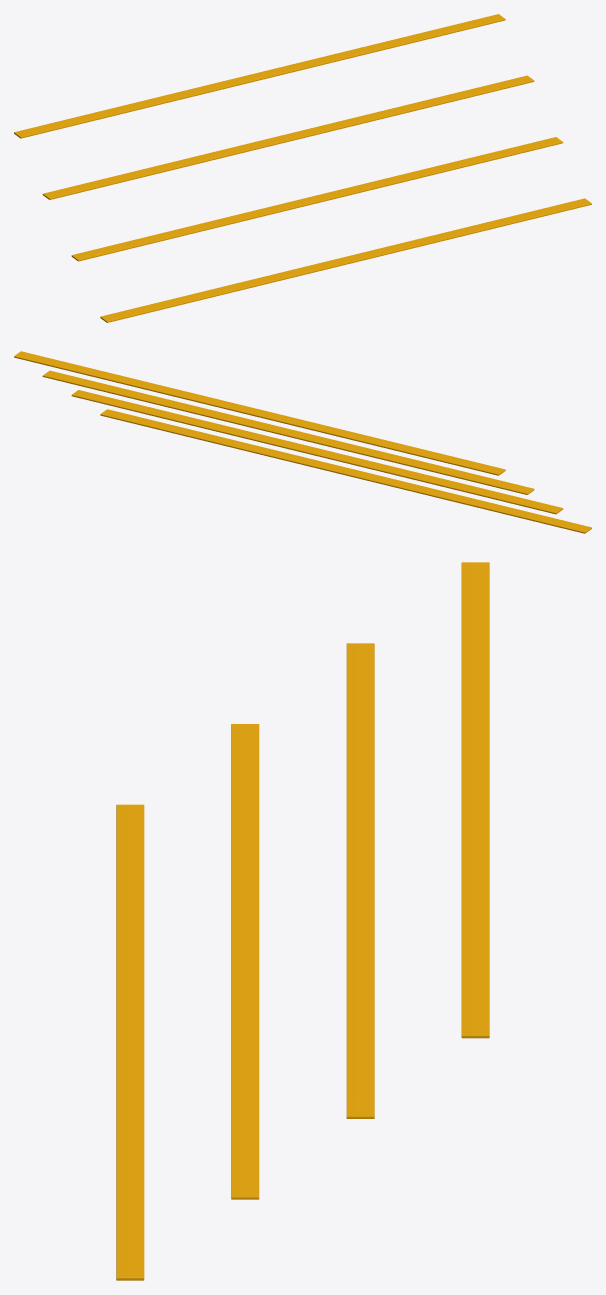
File: gteki_ik_stair_n4_r175_t226_w2215_nosing.glb
3 views of the same model, one above another, from view 1: azimuth 30°, elevation 25°; view 2: azimuth 150°, elevation 25°; view 3: azimuth 270°, elevation 25° (orthographic). The views are drawn at different scales.
Parts seen in each view (by area): view 1: VIS_nosings; view 2: VIS_nosings; view 3: VIS_nosings.
Boxes of the visible parts, x1=… form: VIS_nosings: x1=14, y1=14, x2=591, y2=322; VIS_nosings: x1=14, y1=351, x2=591, y2=533; VIS_nosings: x1=116, y1=562, x2=489, y2=1280.
Bounding box in the file's own units: 2.2 × 0.531 × 0.733.
